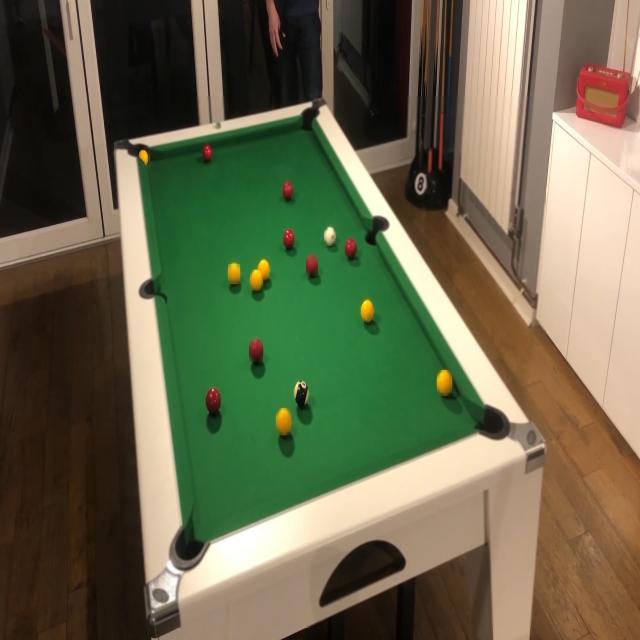Ball: (276, 408, 291, 435), (294, 381, 309, 406), (437, 371, 452, 396), (207, 388, 220, 413), (249, 340, 263, 362), (361, 300, 374, 323), (250, 270, 263, 290), (306, 255, 318, 276), (345, 238, 357, 259), (228, 264, 240, 284), (258, 260, 270, 278), (324, 228, 336, 246), (284, 229, 294, 249), (284, 181, 294, 199), (140, 149, 150, 165), (203, 145, 212, 162)
Billiard table: (114, 96, 546, 628)
